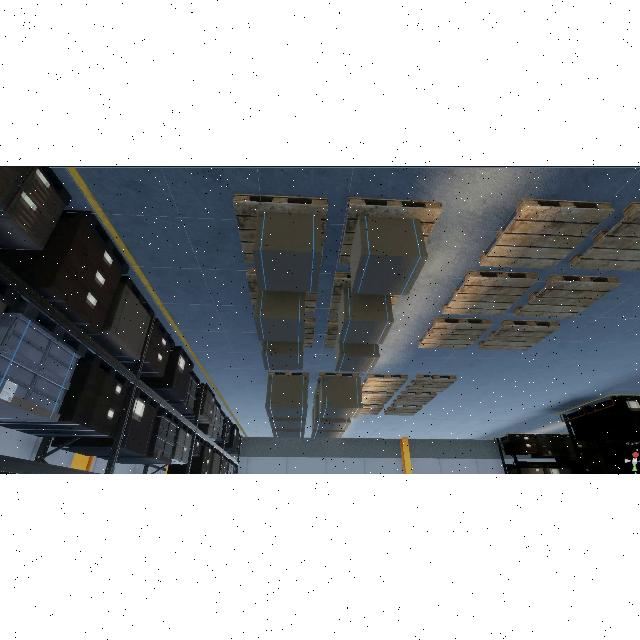wooden_pallet: (481, 198, 616, 266), (339, 195, 444, 263), (232, 194, 330, 266), (568, 201, 640, 275), (514, 275, 620, 319), (441, 272, 540, 317), (416, 318, 492, 352), (476, 320, 558, 351), (405, 375, 457, 393), (361, 374, 408, 392), (394, 392, 437, 406), (384, 405, 422, 416), (362, 392, 394, 405), (358, 404, 384, 415), (320, 372, 361, 377), (269, 372, 311, 376)
